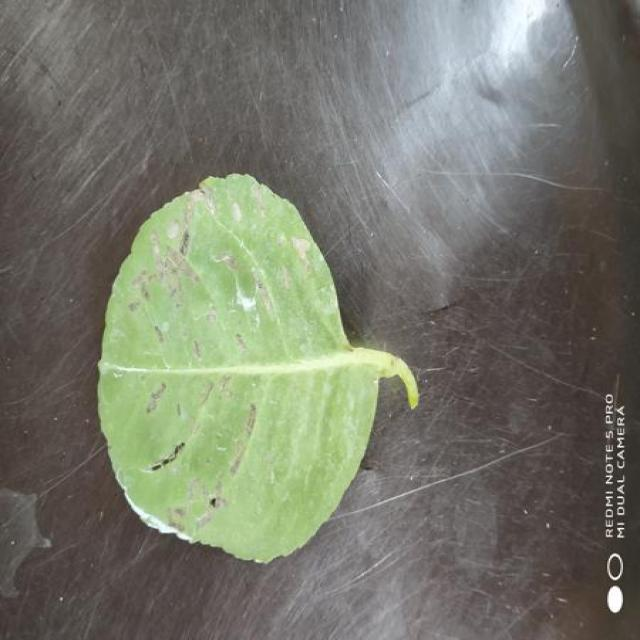badipala: (98, 175, 418, 562)
defectedbadipala: (98, 175, 288, 556)
